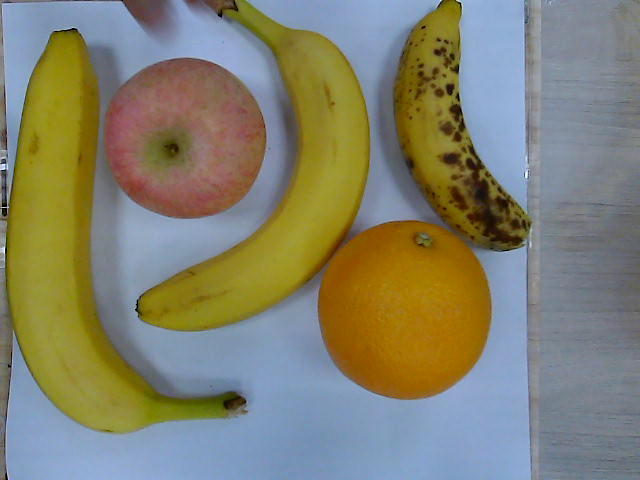fresh_apple: (106, 57, 267, 220)
fresh_banana: (138, 3, 373, 331), (8, 27, 167, 436)
fresh_orange: (317, 220, 492, 400)
rotten_banana: (390, 1, 533, 251)
